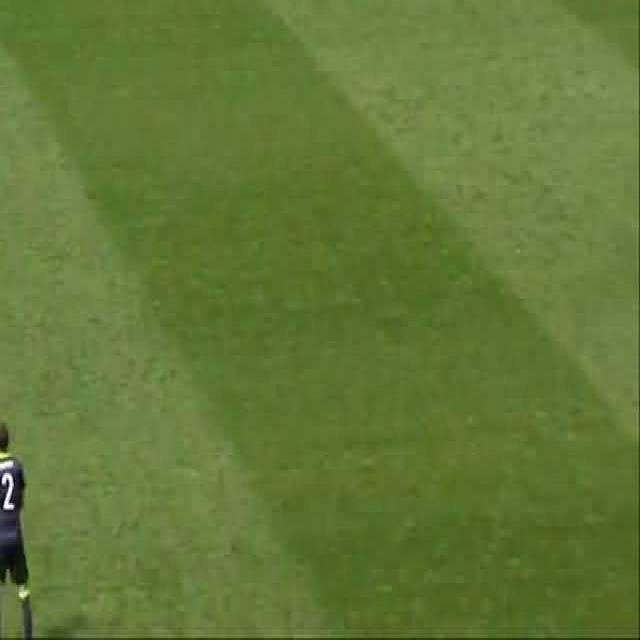player-white: (0, 423, 32, 640)
